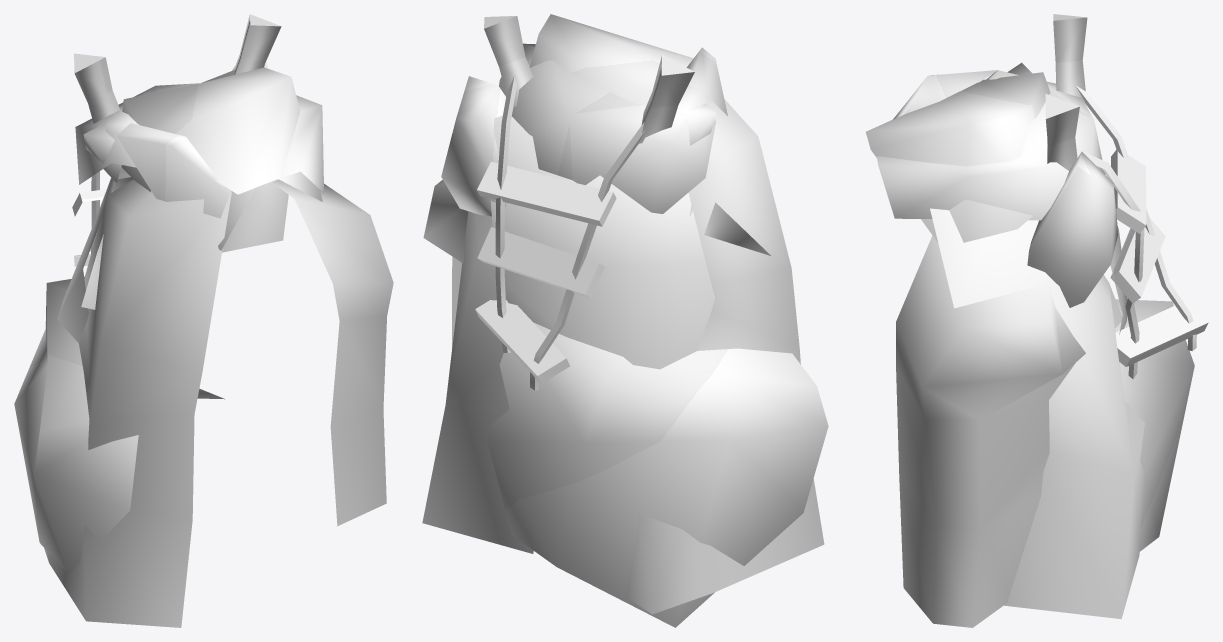
The model's file is narrow_start_a.glb.
3 views of the same model, side by side, from view 1: azimuth 30°, elevation 25°; view 2: azimuth 150°, elevation 25°; view 3: azimuth 270°, elevation 25° (orthographic). The views are drawn at different scales.
Visible parts, largest first — view 1: TREES; view 2: TREES; view 3: TREES.
Part boxes in pixels (x1,y1,x2,y2): TREES: (14,14,393,627); TREES: (422,14,828,627); TREES: (865,14,1208,627).
Size of what is drawn, in the model's own units: 4.07 by 6 by 3.35.
Materials: 1 (1 with a texture image).
